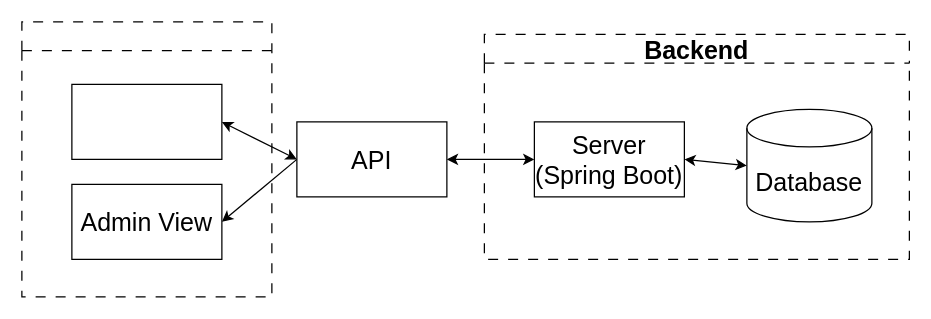
Image size: 931x319. Some labels were removed from this diagram. The box of each missing label's shape, as (x1, y1, x2, y2) in pixels:
Frontend: (21, 21, 272, 297)
User View: (71, 83, 222, 159)
